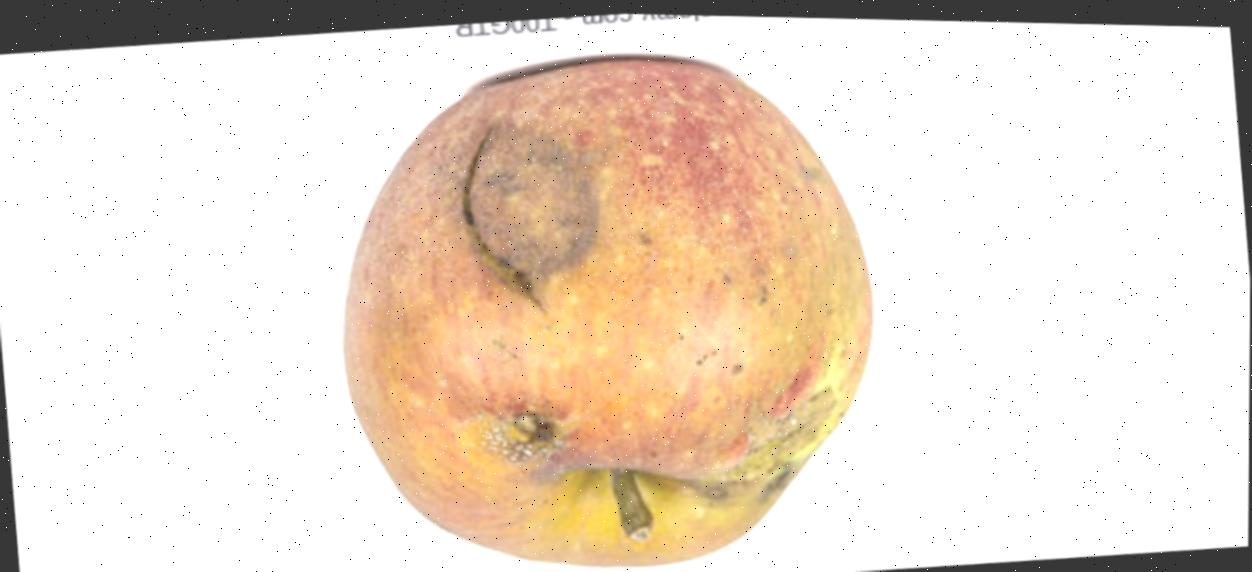ROT: (308, 45, 917, 572)
